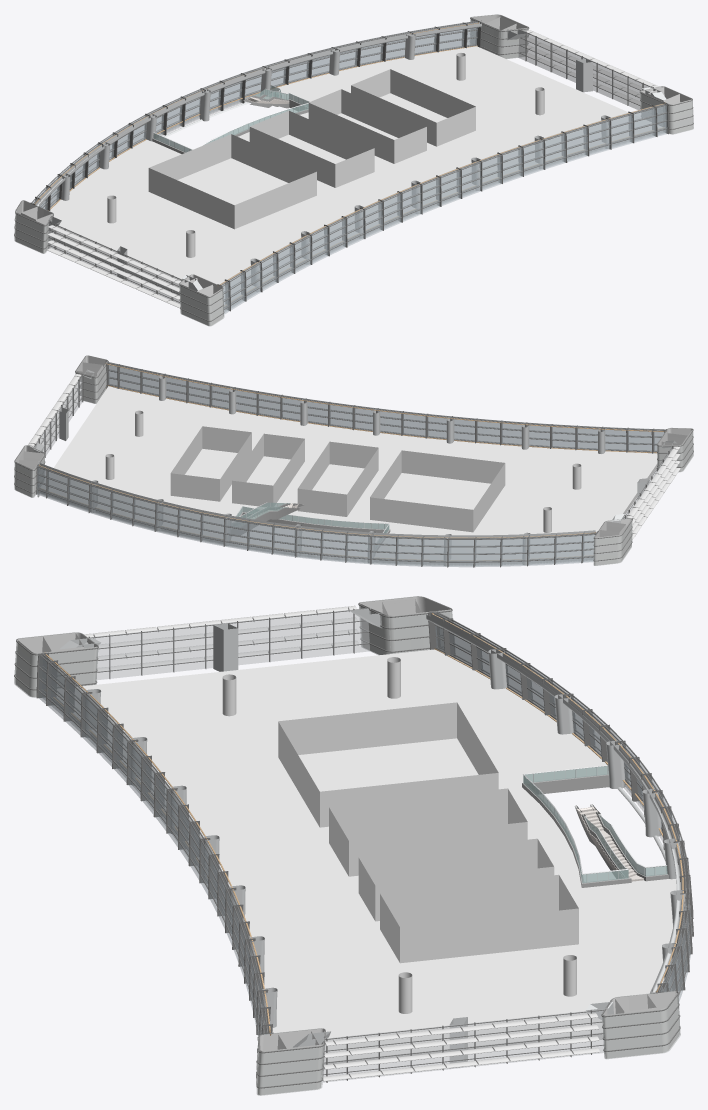
The picture shows the model from 3 angles, top to bottom: view 1: azimuth 30°, elevation 25°; view 2: azimuth 150°, elevation 25°; view 3: azimuth 270°, elevation 25°; orthographic projection. The views are drawn at different scales.
Visible parts, largest first — view 1: floor.058; view 2: floor.058; view 3: floor.058.
Boxes of the visible parts, <box> form: floor.058: <box>14,14,693,326</box>; floor.058: <box>14,355,693,567</box>; floor.058: <box>14,596,693,1095</box>.
Bounding box in the file's own units: 81.89 × 4.75 × 51.55.
Materials: 18 (1 with a texture image).
